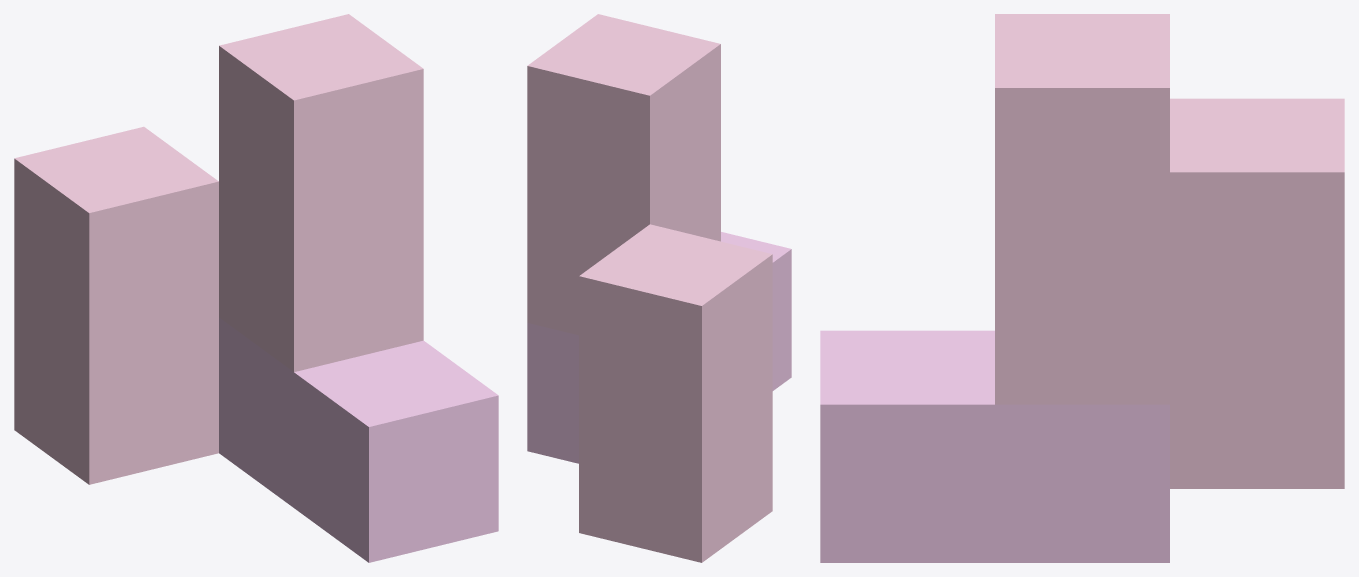
File: tile-28.obj
3 renders of one model, left to right at view 1: azimuth 30°, elevation 25°; view 2: azimuth 150°, elevation 25°; view 3: azimuth 270°, elevation 25°, orthographic. The views are drawn at different scales.
Bounding box in the file's own units: 0.2 × 0.3 × 0.3.
